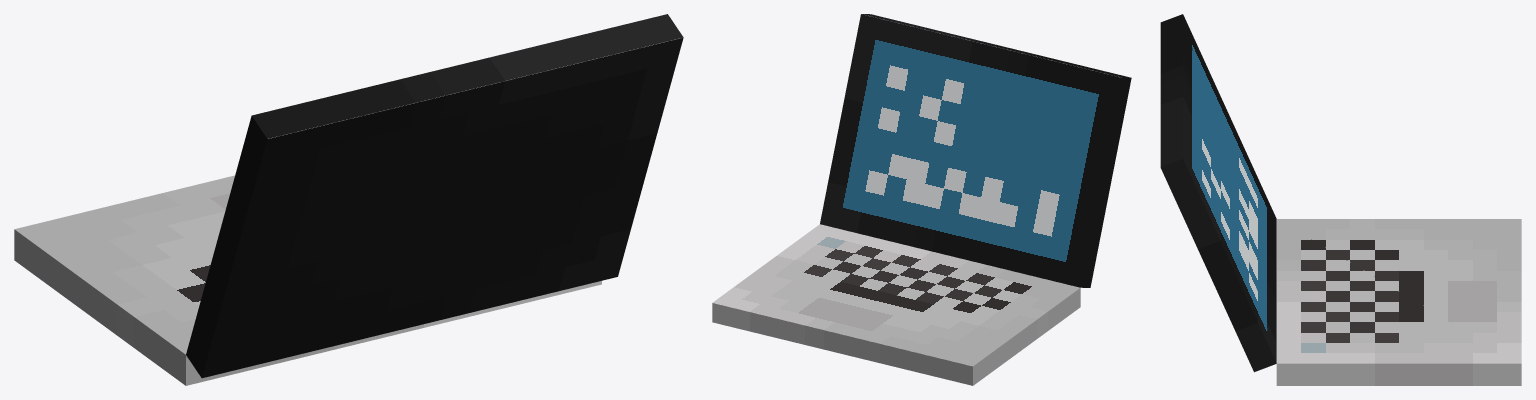
File: laptop.gltf
3 renders of one model, left to right at view 1: azimuth 30°, elevation 25°; view 2: azimuth 150°, elevation 25°; view 3: azimuth 270°, elevation 25°, orthographic. The views are drawn at different scales.
Parts seen in each view (by area): view 1: 683e043a-e498-47f4-e40b-be2ed29d5d63, d4db0465-94c2-d378-e889-f3ffe6727981; view 2: 683e043a-e498-47f4-e40b-be2ed29d5d63, d4db0465-94c2-d378-e889-f3ffe6727981; view 3: d4db0465-94c2-d378-e889-f3ffe6727981, 683e043a-e498-47f4-e40b-be2ed29d5d63.
Part boxes in pixels (left/top/right/bottom): 683e043a-e498-47f4-e40b-be2ed29d5d63: left=186, top=14, right=683, bottom=378; d4db0465-94c2-d378-e889-f3ffe6727981: left=14, top=175, right=601, bottom=385; 683e043a-e498-47f4-e40b-be2ed29d5d63: left=820, top=14, right=1131, bottom=287; d4db0465-94c2-d378-e889-f3ffe6727981: left=712, top=224, right=1080, bottom=385; d4db0465-94c2-d378-e889-f3ffe6727981: left=1276, top=219, right=1521, bottom=385; 683e043a-e498-47f4-e40b-be2ed29d5d63: left=1160, top=14, right=1276, bottom=372.
Size of the model in its own units: 14 by 10.24 by 14.75.
Materials: 4 (4 with a texture image).
